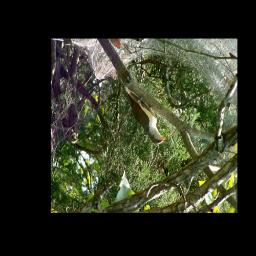Cuckoo: (115, 72, 167, 146)
